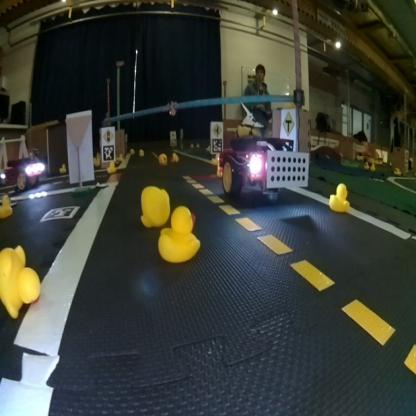duckie: (0, 243, 42, 320), (155, 205, 201, 261), (131, 180, 170, 225), (326, 178, 356, 220), (0, 194, 15, 219)
duckiebot: (217, 138, 315, 210), (0, 149, 46, 191)
